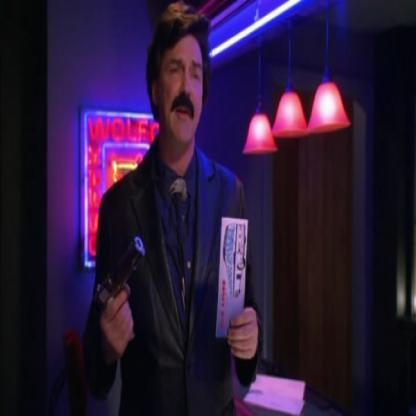Gun: (87, 234, 149, 347)
